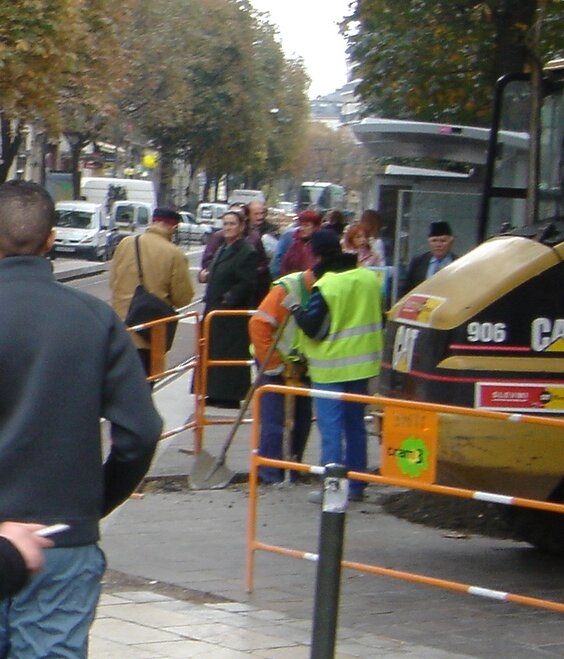person: (1, 179, 164, 649)
